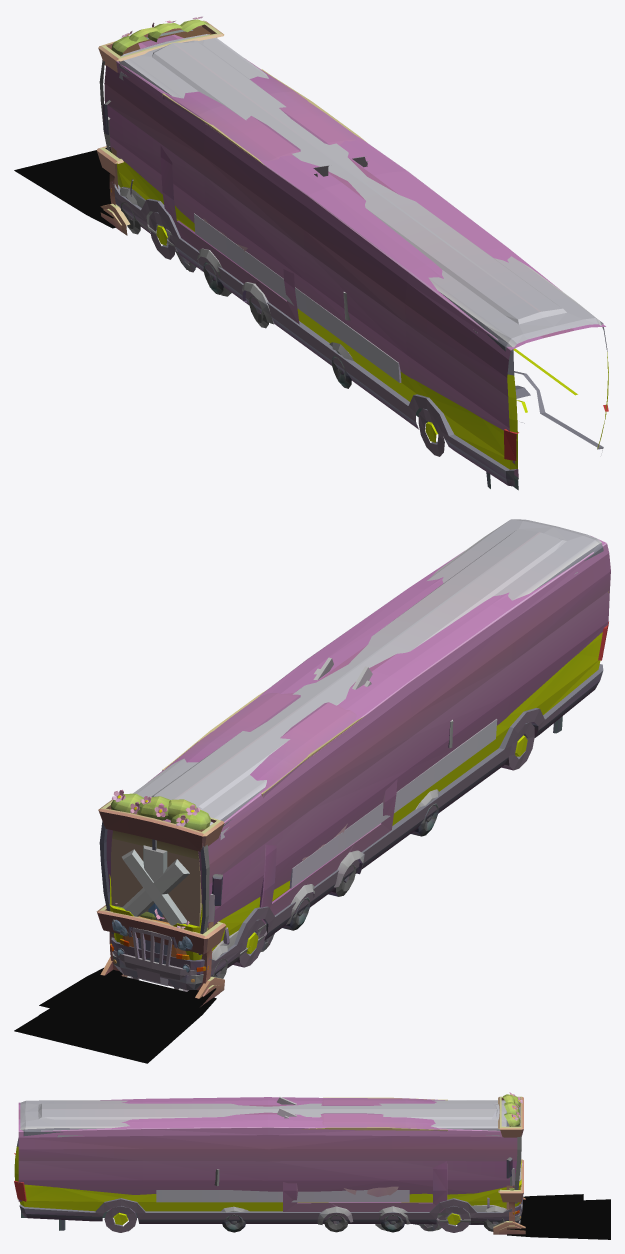
The model's file is Angela_Obstacles_Flattened.glb.
3 views of the same model, one above another, from view 1: azimuth 30°, elevation 25°; view 2: azimuth 150°, elevation 25°; view 3: azimuth 270°, elevation 25° (orthographic). The views are drawn at different scales.
Visible parts, largest first — view 1: hank1_double8_truckTrailor03, angela1_double8_bus03, hank1_double4_truck03, angela1_staticDouble1_flowerbed03, roadworksShadow, hank1_ramp5_flowerTruck03, flowerpot04Shadow, angela1_over_flowerbed01, flowerpot02Shadow; view 2: hank1_double8_truckTrailor03, angela1_double8_bus03, hank1_double4_truck03, angela1_staticDouble1_flowerbed03, roadworksShadow, flowerpot04Shadow, hank1_ramp5_flowerTruck03, angela1_under_flowerbed04, angela1_over_flowerbed01, flowerpot02Shadow, angela1_overUnder_flowerbed02, hank1_single2_car05; view 3: hank1_double8_truckTrailor03, angela1_double8_bus03, hank1_double4_truck03, roadworksShadow, hank1_ramp5_flowerTruck03, angela1_staticDouble1_flowerbed03, flowerpot04Shadow, angela1_over_flowerbed01, hank1_single2_car05, flowerpot02Shadow.
Part boxes in pixels (left/top/right/bottom): hank1_double8_truckTrailor03: left=99, top=30, right=605, bottom=490; angela1_double8_bus03: left=103, top=34, right=608, bottom=486; hank1_double4_truck03: left=107, top=70, right=356, bottom=328; angela1_staticDouble1_flowerbed03: left=98, top=16, right=224, bottom=235; roadworksShadow: left=39, top=161, right=113, bottom=218; hank1_ramp5_flowerTruck03: left=162, top=69, right=369, bottom=388; flowerpot04Shadow: left=14, top=147, right=112, bottom=224; angela1_over_flowerbed01: left=96, top=146, right=123, bottom=232; flowerpot02Shadow: left=39, top=183, right=115, bottom=227; hank1_double8_truckTrailor03: left=99, top=536, right=610, bottom=959; angela1_double8_bus03: left=109, top=519, right=608, bottom=976; hank1_double4_truck03: left=114, top=693, right=397, bottom=983; angela1_staticDouble1_flowerbed03: left=98, top=789, right=224, bottom=998; roadworksShadow: left=39, top=968, right=216, bottom=1036; flowerpot04Shadow: left=14, top=998, right=216, bottom=1063; hank1_ramp5_flowerTruck03: left=127, top=657, right=453, bottom=991; angela1_under_flowerbed04: left=100, top=796, right=220, bottom=975; angela1_over_flowerbed01: left=96, top=903, right=225, bottom=1006; flowerpot02Shadow: left=39, top=997, right=216, bottom=1046; angela1_overUnder_flowerbed02: left=98, top=912, right=206, bottom=954; hank1_single2_car05: left=112, top=927, right=274, bottom=990; hank1_double8_truckTrailor03: left=18, top=1097, right=521, bottom=1231; angela1_double8_bus03: left=14, top=1100, right=521, bottom=1232; hank1_double4_truck03: left=283, top=1098, right=522, bottom=1232; roadworksShadow: left=507, top=1194, right=583, bottom=1232; hank1_ramp5_flowerTruck03: left=214, top=1097, right=520, bottom=1232; angela1_staticDouble1_flowerbed03: left=493, top=1092, right=525, bottom=1234; flowerpot04Shadow: left=507, top=1199, right=610, bottom=1239; angela1_over_flowerbed01: left=498, top=1159, right=524, bottom=1234; hank1_single2_car05: left=413, top=1197, right=521, bottom=1231; flowerpot02Shadow: left=509, top=1230, right=583, bottom=1238.
Size of the model in its own units: 1.48 by 2.05 by 9.25.
